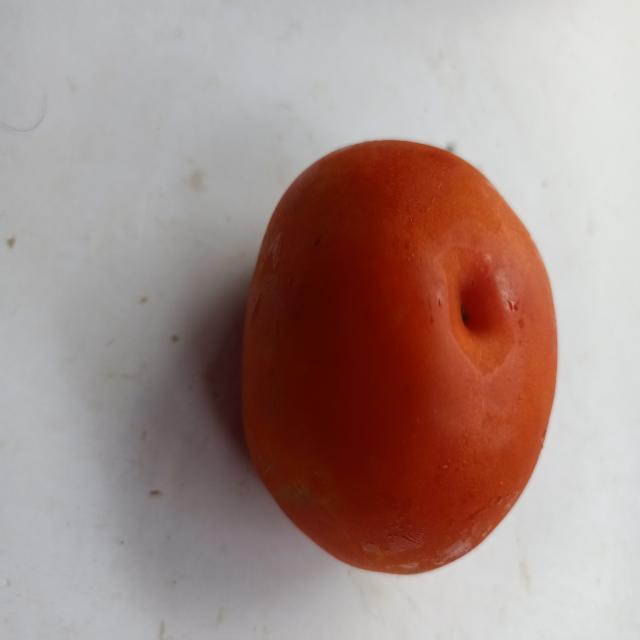Tomato: (215, 114, 585, 600)
